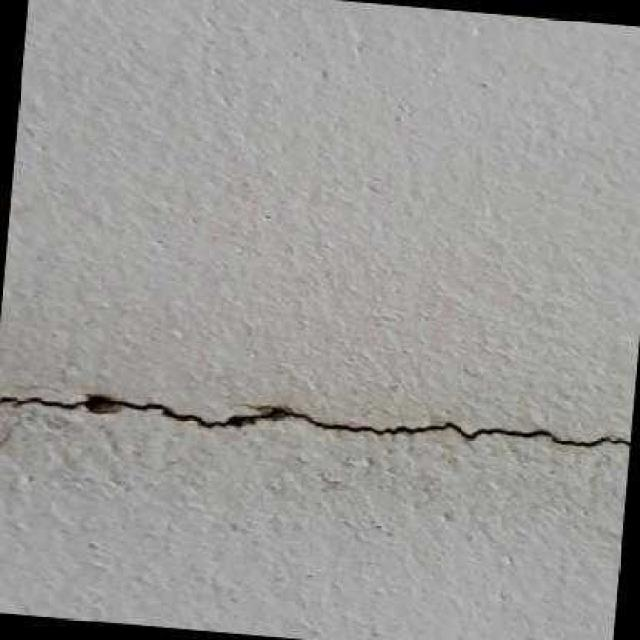D00: (0, 394, 631, 452)
